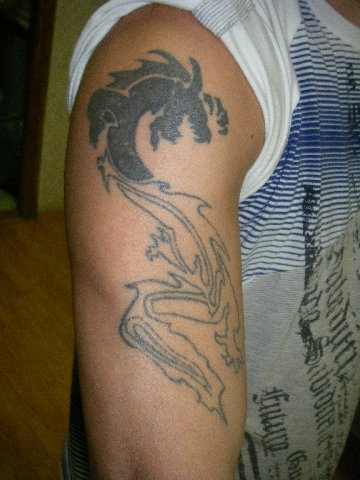tatu6_drakon: (71, 42, 246, 428)
